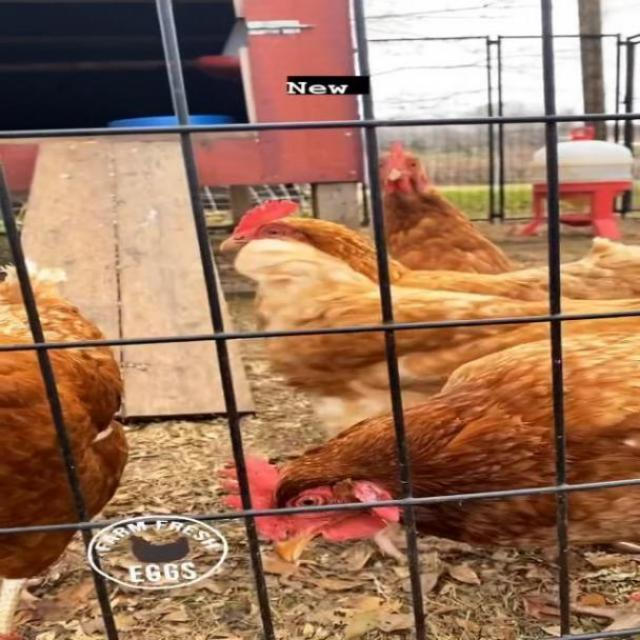Chicken: (219, 327, 640, 562), (229, 238, 640, 428), (0, 261, 134, 640), (211, 196, 640, 302), (378, 143, 528, 275)
